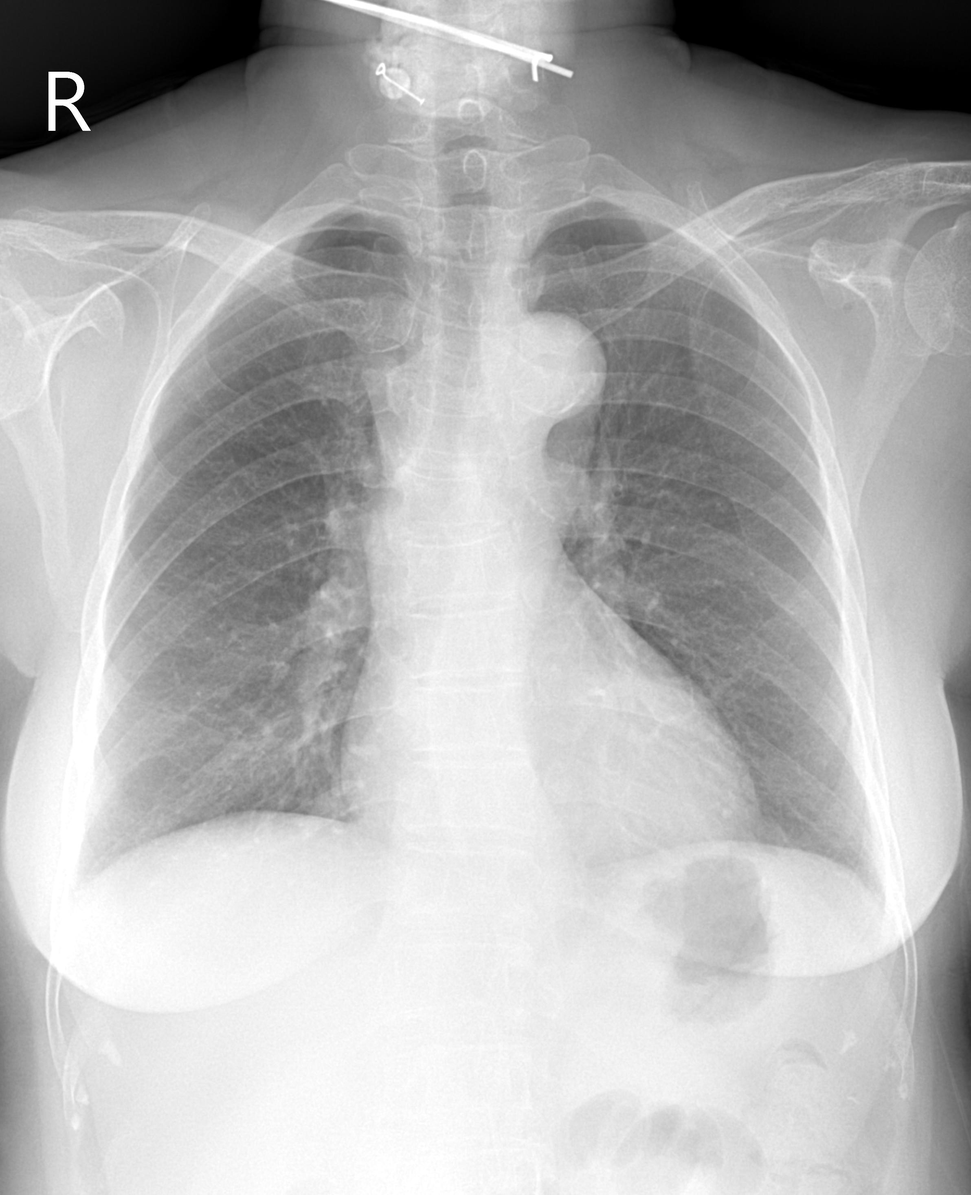Aortic enlargement: (481, 317, 604, 432)
